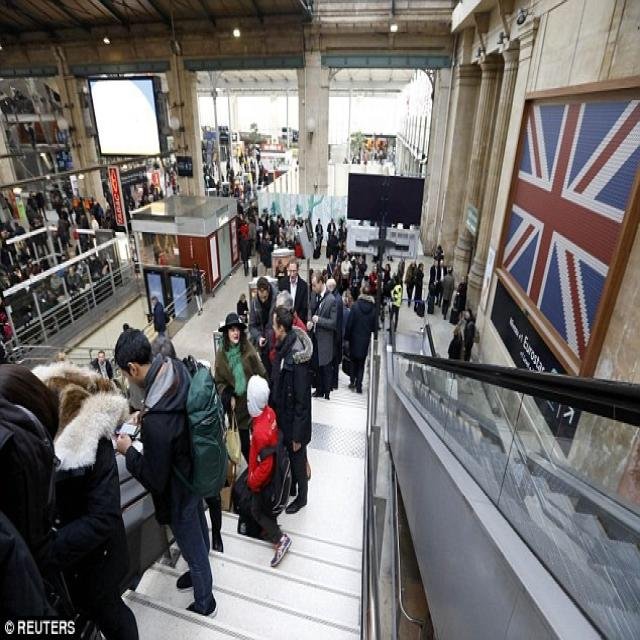body: (0, 359, 142, 639), (101, 323, 230, 625), (0, 393, 78, 640), (239, 367, 300, 569), (267, 306, 314, 518), (216, 309, 271, 467), (306, 267, 338, 403), (341, 284, 376, 394), (247, 275, 281, 382), (0, 262, 45, 339), (203, 150, 265, 199), (277, 256, 309, 329), (325, 276, 344, 391), (267, 208, 312, 248), (21, 192, 102, 214), (29, 211, 75, 249), (274, 291, 309, 337), (386, 274, 404, 334), (431, 243, 446, 308), (150, 294, 170, 338), (439, 262, 454, 320), (462, 306, 477, 364), (149, 332, 177, 361), (452, 275, 468, 323), (94, 347, 115, 382), (0, 223, 17, 265), (190, 260, 202, 318), (413, 261, 426, 314), (436, 256, 449, 308), (404, 258, 417, 308), (260, 228, 272, 278), (339, 253, 353, 293), (351, 261, 364, 303), (258, 237, 274, 270), (88, 214, 101, 252), (246, 217, 258, 258), (235, 196, 258, 217), (396, 255, 406, 303), (332, 256, 343, 299), (336, 217, 347, 258), (236, 292, 250, 324), (448, 329, 462, 361), (274, 256, 286, 293), (66, 265, 80, 296), (48, 270, 64, 297), (136, 188, 160, 206), (240, 232, 250, 275), (352, 250, 362, 293), (76, 211, 89, 244), (314, 214, 323, 256), (258, 211, 266, 256), (341, 287, 354, 314), (427, 256, 437, 291), (358, 252, 368, 286), (12, 218, 27, 238), (381, 260, 392, 286), (326, 217, 337, 243), (325, 253, 335, 281), (369, 264, 378, 294), (238, 220, 250, 241)
